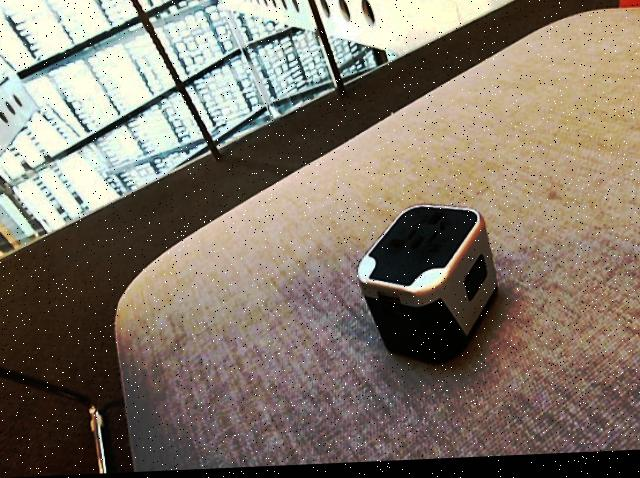adapter: (356, 205, 498, 371)
